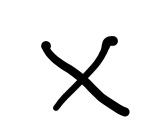mult: (42, 39, 127, 117)
